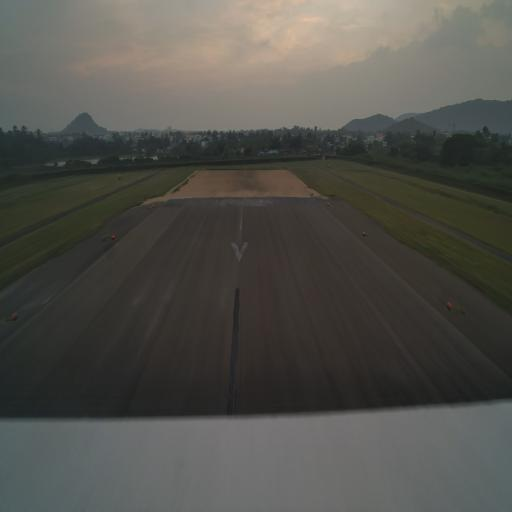on: (445, 297, 455, 314), (11, 308, 20, 320), (360, 227, 367, 237), (111, 231, 117, 241)
